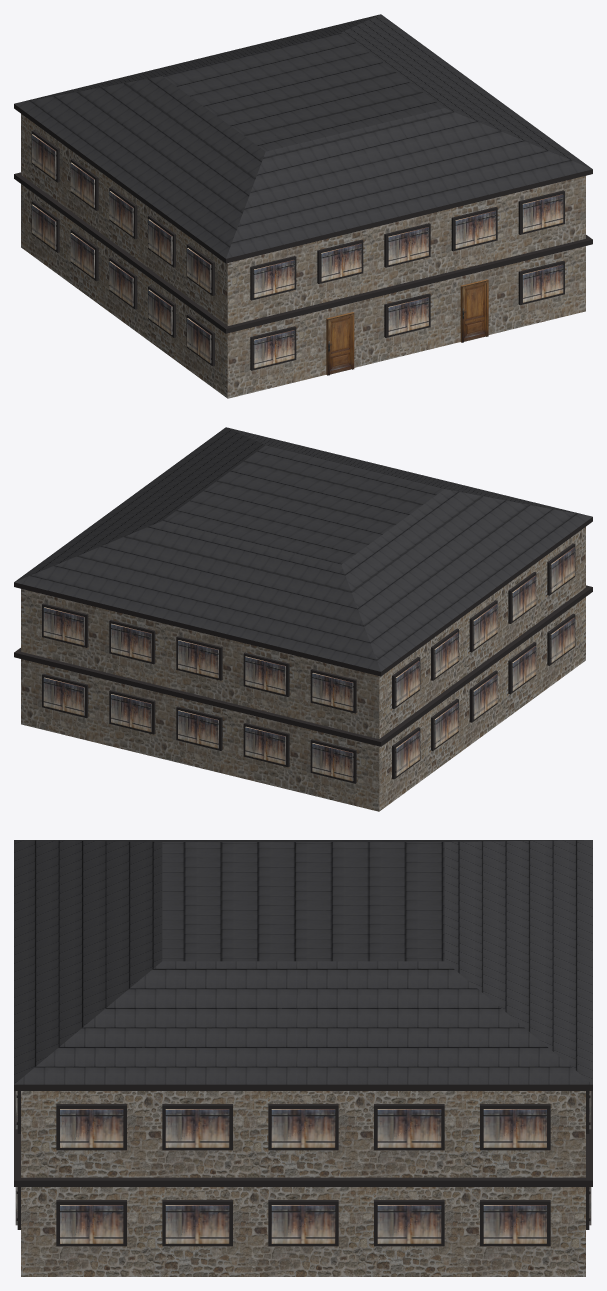
The model's file is maison2.fbx.
The picture shows the model from 3 angles, top to bottom: view 1: azimuth 30°, elevation 25°; view 2: azimuth 150°, elevation 25°; view 3: azimuth 270°, elevation 25°; orthographic projection. The views are drawn at different scales.
Visible parts, largest first — view 1: Maison_toit, Maison, Maison_fenetre, Cube; view 2: Maison_toit, Maison, Maison_fenetre; view 3: Maison_toit, Maison, Maison_fenetre.
Boxes of the visible parts, x1,y1,x2,y2 form: Maison_toit: [14, 14, 592, 333]; Maison: [21, 114, 585, 398]; Maison_fenetre: [31, 130, 564, 370]; Cube: [326, 279, 488, 375]; Maison_toit: [14, 427, 592, 746]; Maison: [21, 527, 585, 811]; Maison_fenetre: [42, 543, 575, 783]; Maison_toit: [14, 840, 592, 1186]; Maison: [21, 1091, 585, 1276]; Maison_fenetre: [15, 1091, 591, 1246].
Bounding box in the file's own units: 82 × 40 × 82.
4 materials, 4 textured.
